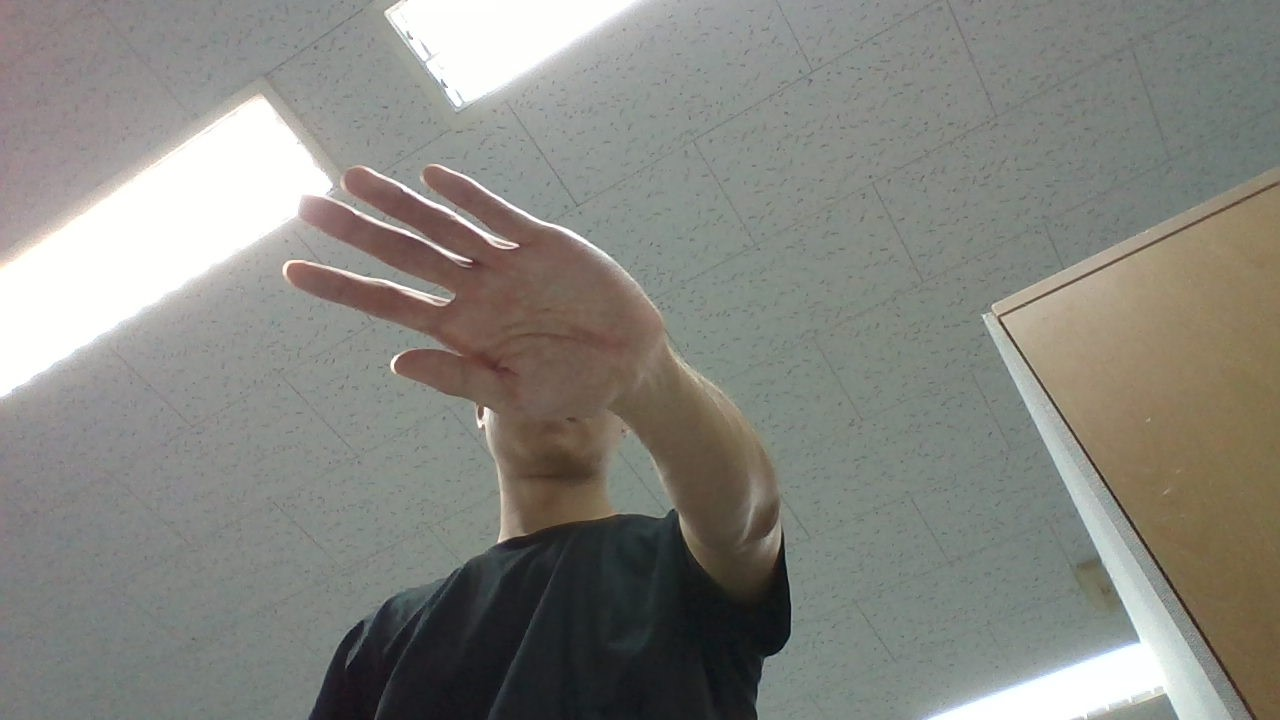Non-Helmet: (419, 282, 649, 485)
